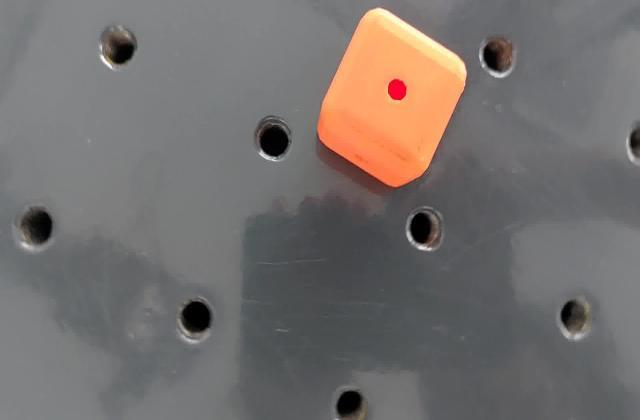cube: (315, 4, 470, 196)
